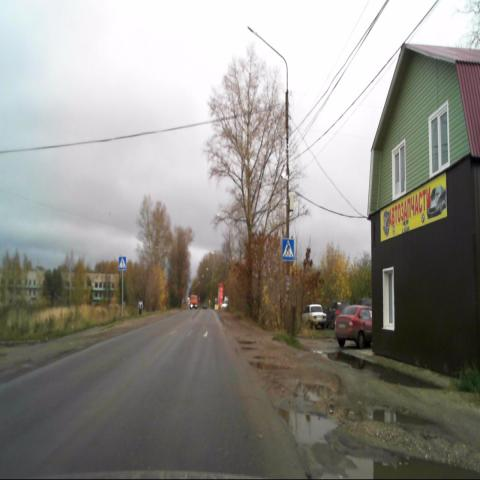5_19_1: (281, 236, 295, 260), (118, 256, 126, 270)
